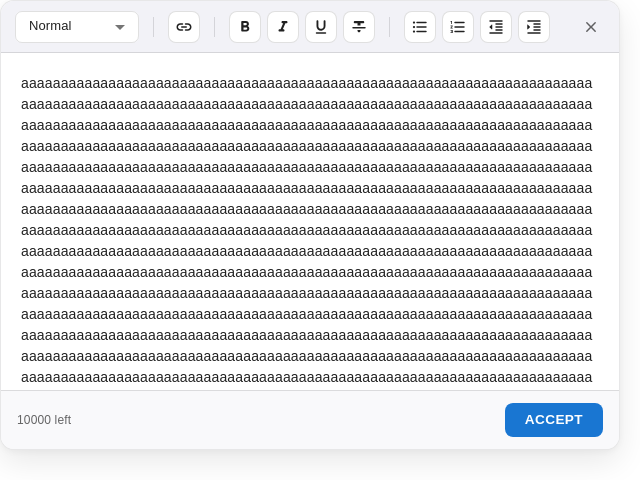
RichTextNoteEditor › warns when the note gets close to the character limit
Expected: the text "(Approaching limit)" is not shown
Clear the text box at {"x": 310, "y": 222}, box [1,53,619,390]
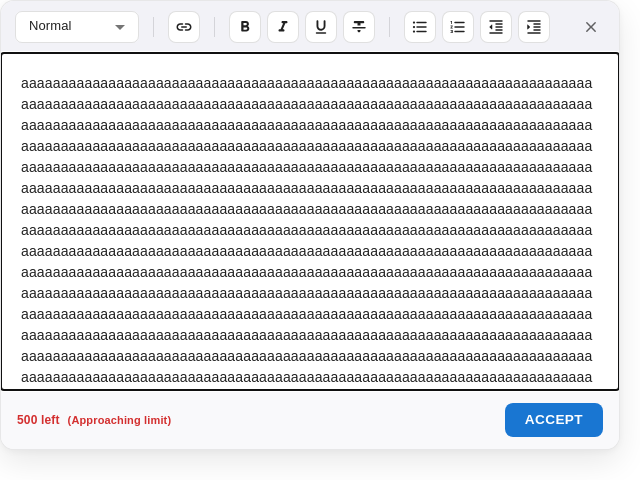
Result: the text "500 left" is shown at [17,413,60,427]
Result: the text "(Approaching limit)" is shown at [68,414,171,426]
